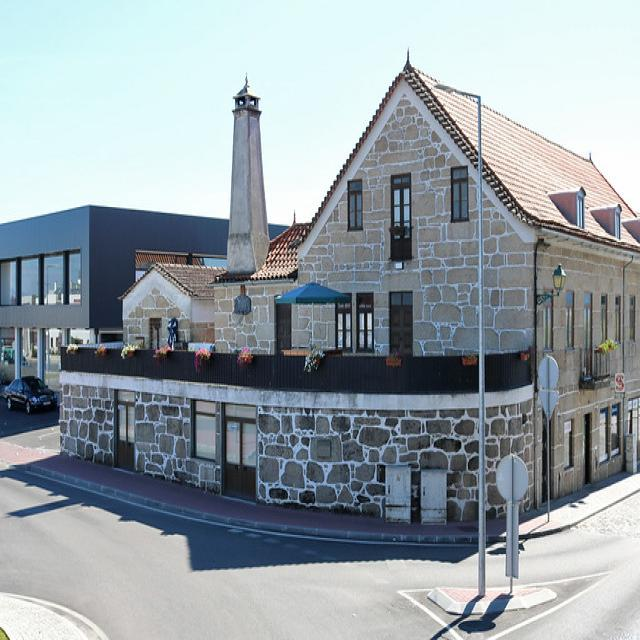Normal_building: (114, 55, 640, 524)
